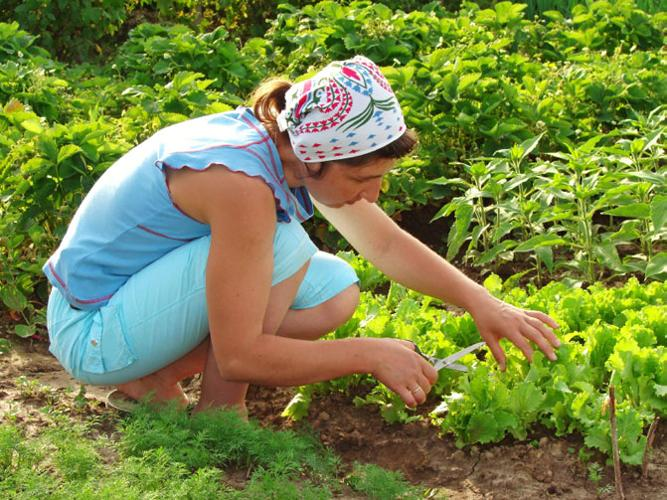person: (40, 57, 568, 431)
